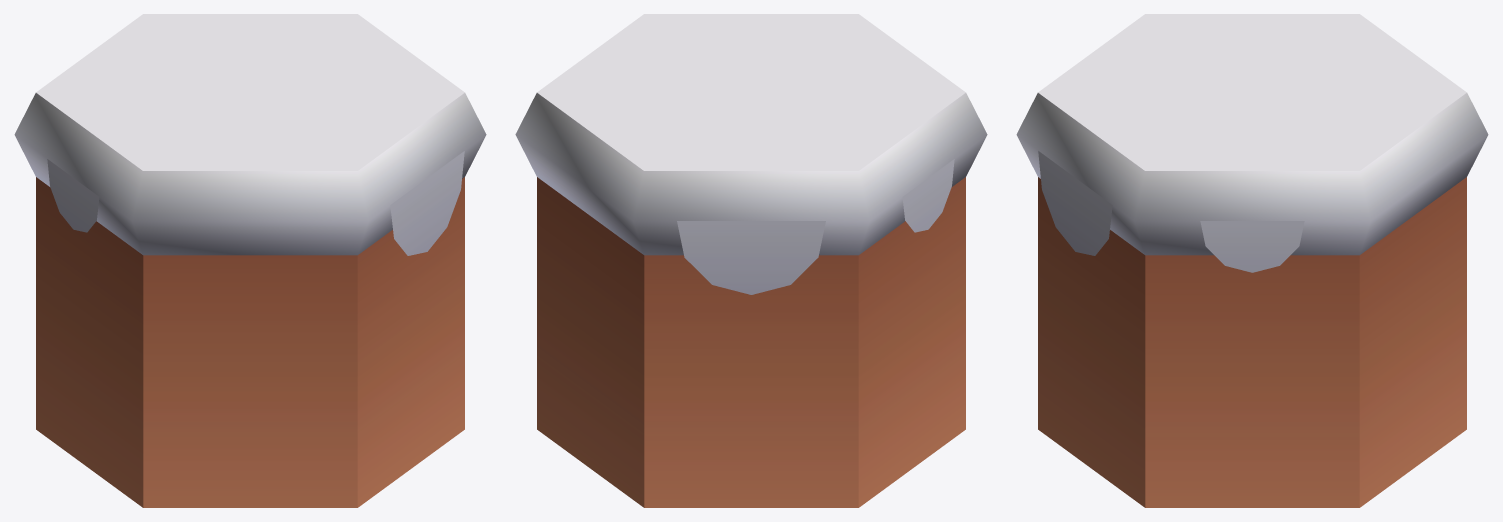
File: kenney-platformer-block-snow-overhang-hexagon.glb
The picture shows the model from 3 angles, left to right: view 1: azimuth 30°, elevation 25°; view 2: azimuth 150°, elevation 25°; view 3: azimuth 270°, elevation 25°; orthographic projection.
Visible parts, largest first — view 1: block-snow-overhang-hexagon; view 2: block-snow-overhang-hexagon; view 3: block-snow-overhang-hexagon.
Part boxes in pixels (<box>): block-snow-overhang-hexagon: <box>14,14,486,507</box>; block-snow-overhang-hexagon: <box>515,14,987,507</box>; block-snow-overhang-hexagon: <box>1016,14,1488,507</box>.
Size of the model in its own units: 1.1 by 1 by 1.27.
Materials: 1 (1 with a texture image).
